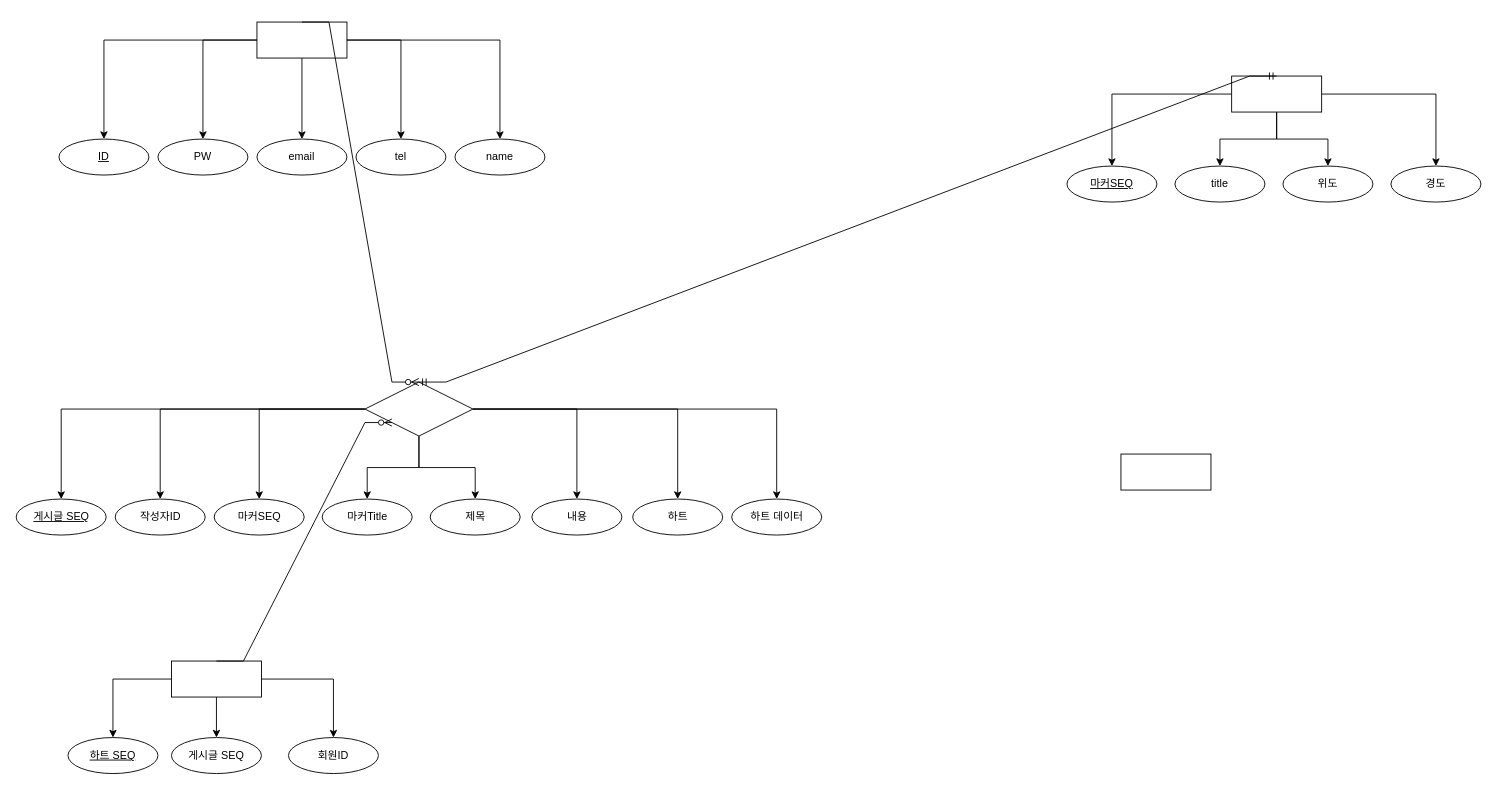
The diagram is 1497 pixels wide and 789 high, and some of its shapes have lost their labels. Each missing label, with the box of its shape:
게시글 데이터: (364, 381, 473, 436)
댓글 데이터: (1120, 453, 1211, 490)
마커 데이터: (1231, 75, 1322, 112)
하트 정보: (171, 660, 261, 697)
회원데이터: (256, 21, 347, 58)
